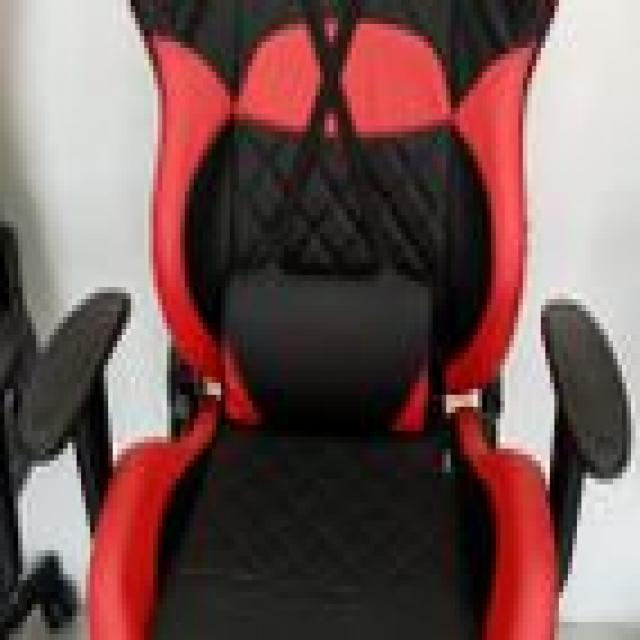others: (76, 6, 626, 640)
